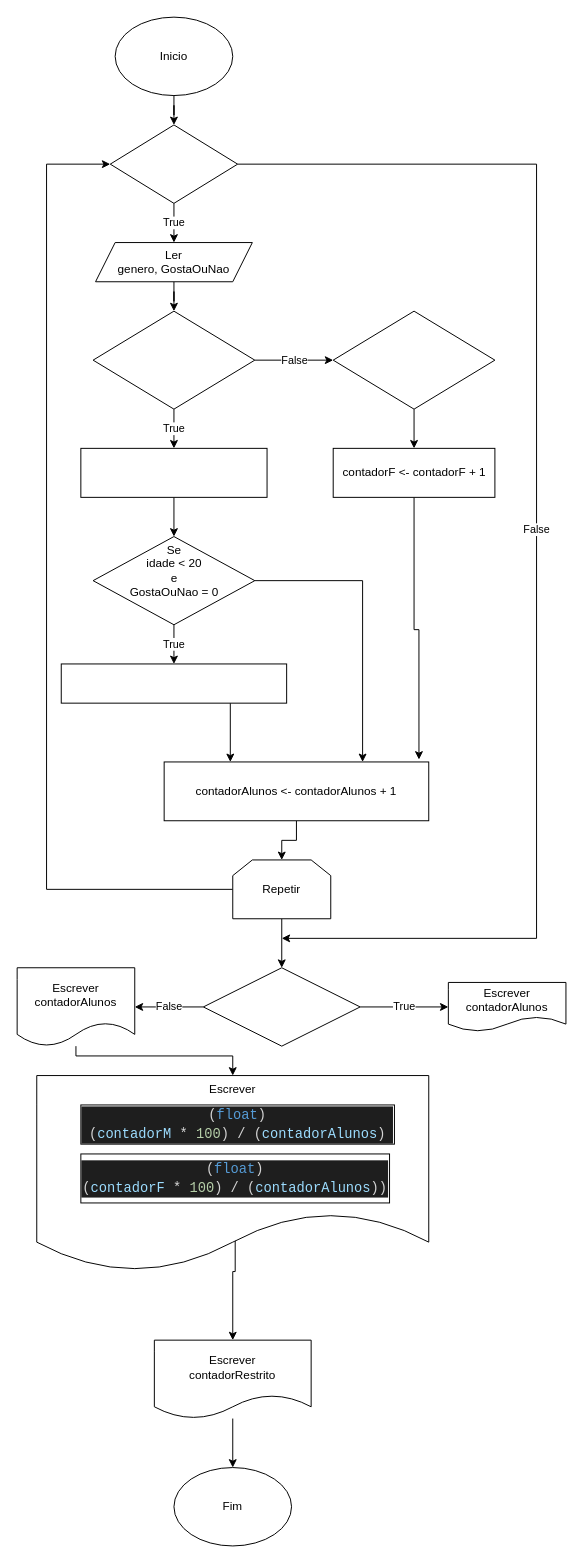
Some shapes in this 583 by 1563 pixel diagram are drawn without their labels. Here are the shapes that lost their labels. From the top down, the centre of each, then its label:
At point 173,163: "Enquanto idade > 0".
At point 173,359: "Se genero = 'M' ou genero = 'm'".
At point 413,359: "Se genero = 'F' ou genero = 'f'".
At point 173,472: "contadorM <- contadorM + 1".
At point 173,683: "contadorRestrito <- contadorRestrito + 1".
At point 281,1006: "Se contadorAlunod = 0".
